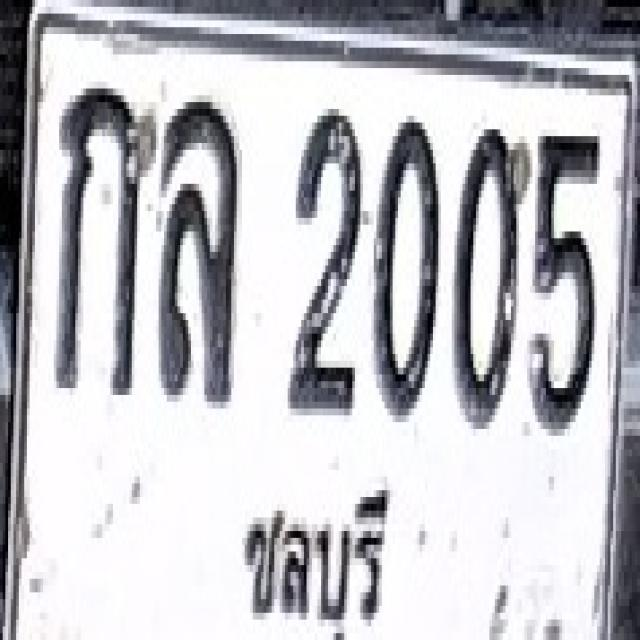-: (54, 78, 156, 392), (159, 95, 239, 402)
0: (452, 119, 527, 426), (371, 109, 438, 415)
2: (286, 99, 362, 412)
5: (530, 126, 600, 425)
CBI: (232, 467, 418, 640)
